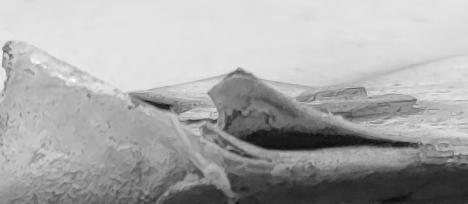crack: (1, 1, 468, 204)
